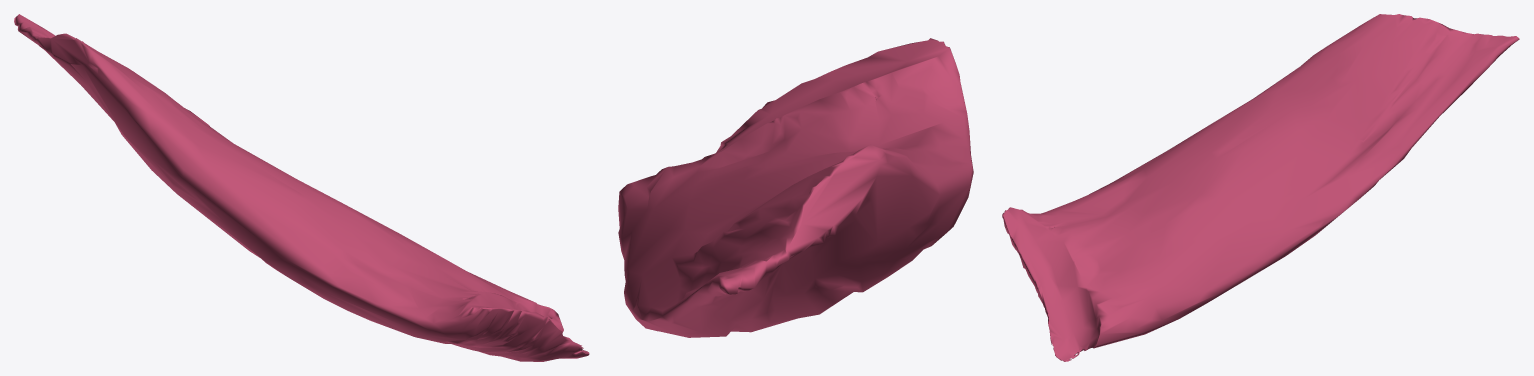
3 views of the same model, side by side, from view 1: azimuth 30°, elevation 25°; view 2: azimuth 150°, elevation 25°; view 3: azimuth 270°, elevation 25° (orthographic). The views are drawn at different scales.
Parts seen in each view (by area): view 1: 右侧耻骨肌; view 2: 右侧耻骨肌; view 3: 右侧耻骨肌.
Part boxes in pixels (bbox=[...]): 右侧耻骨肌: bbox=[14, 14, 589, 361]; 右侧耻骨肌: bbox=[618, 38, 973, 337]; 右侧耻骨肌: bbox=[1002, 14, 1519, 361].
Bounding box in the file's own units: 0.122 × 0.0893 × 0.1934.
